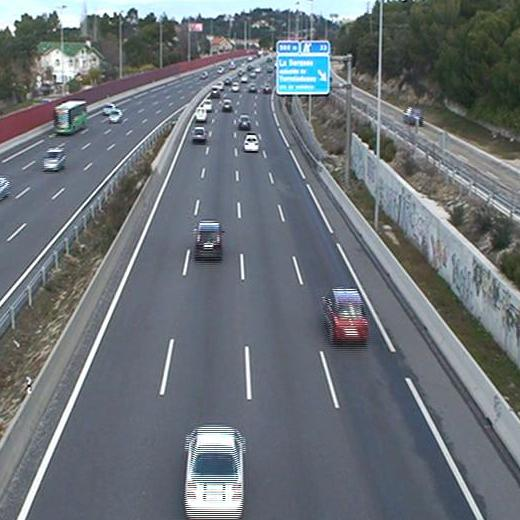car: (183, 423, 245, 520), (323, 287, 371, 345), (194, 221, 223, 260), (242, 134, 260, 152), (190, 126, 208, 142), (238, 115, 251, 129), (221, 98, 233, 110)
van: (194, 105, 208, 121)
